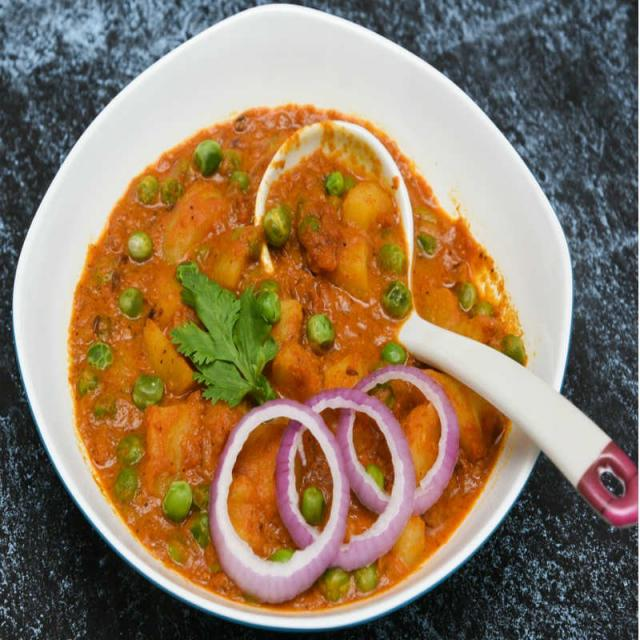Aloo Matar: (101, 110, 508, 600)
